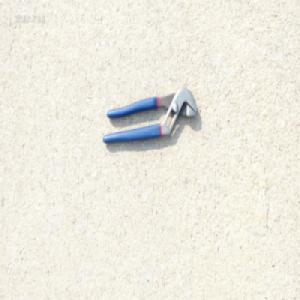Pliers: (101, 85, 198, 144)
